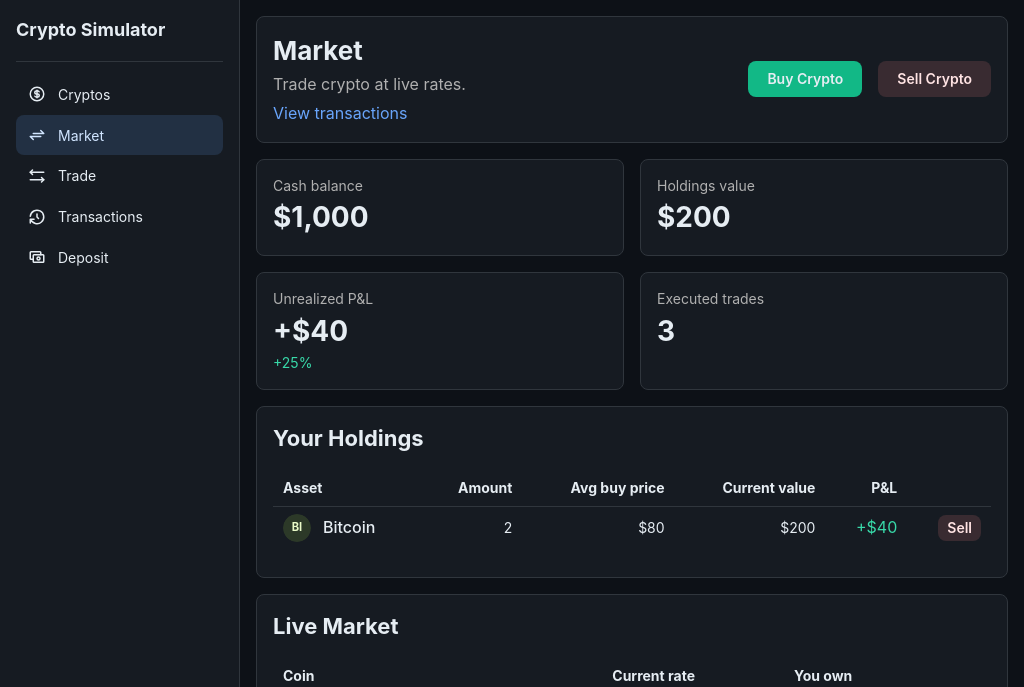
Test: MarketPage › fills the max sell amount from the Max chip
Click the button with aria-label "Sell Bitcoin": (960, 528) left=938, top=515, right=981, bottom=541
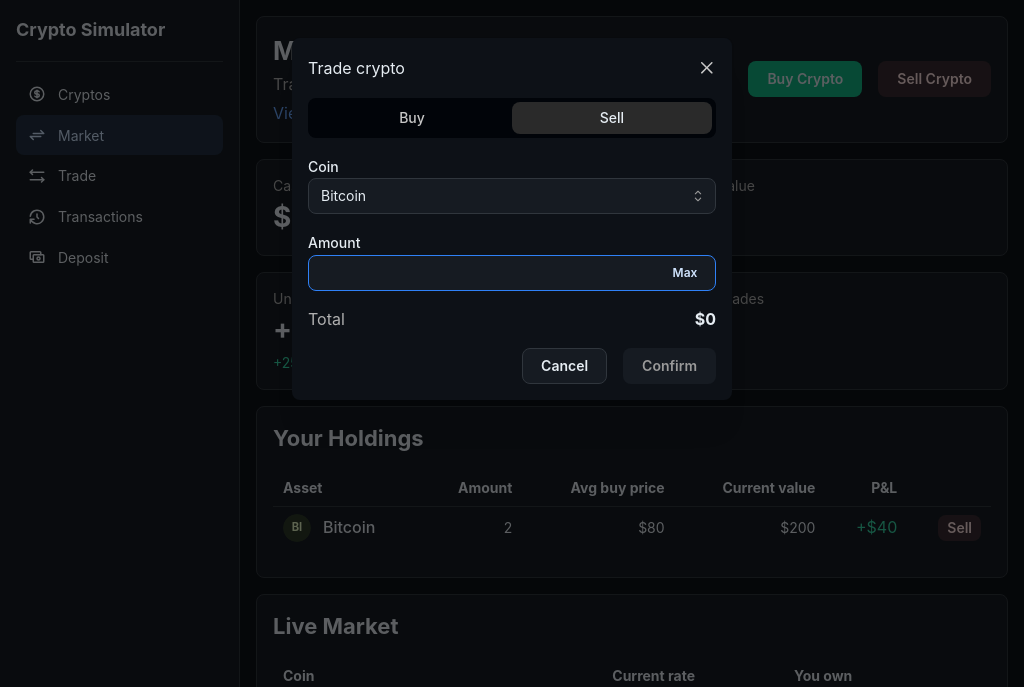
Click the button "Max": (685, 274) left=665, top=263, right=705, bottom=285
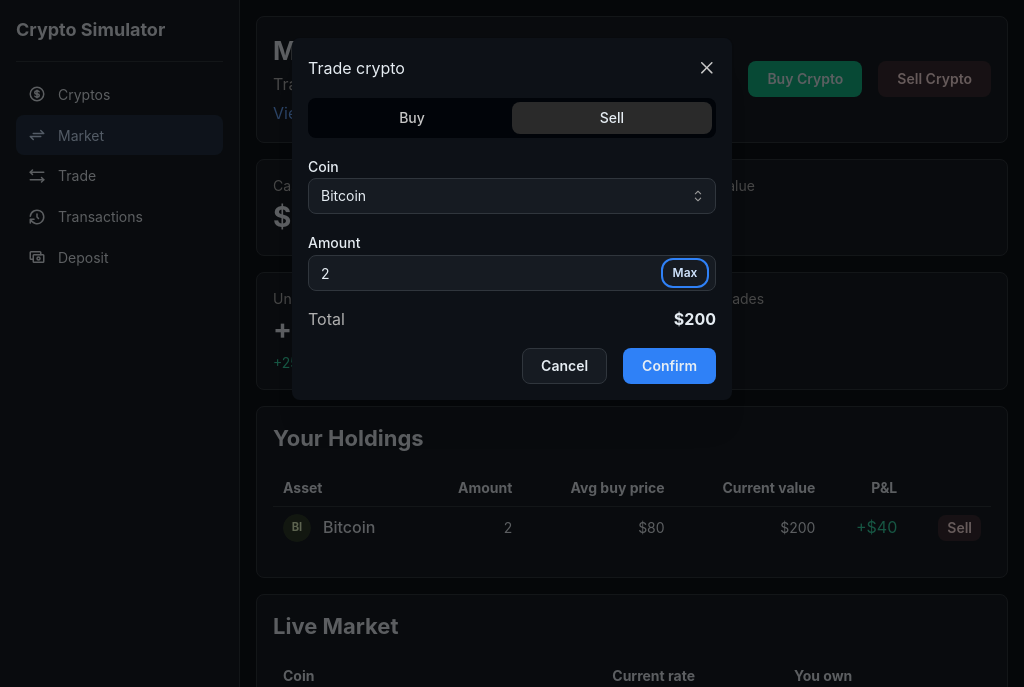
Expected: the field labelled "Amount" holds "2", left=308, top=256, right=716, bottom=292
